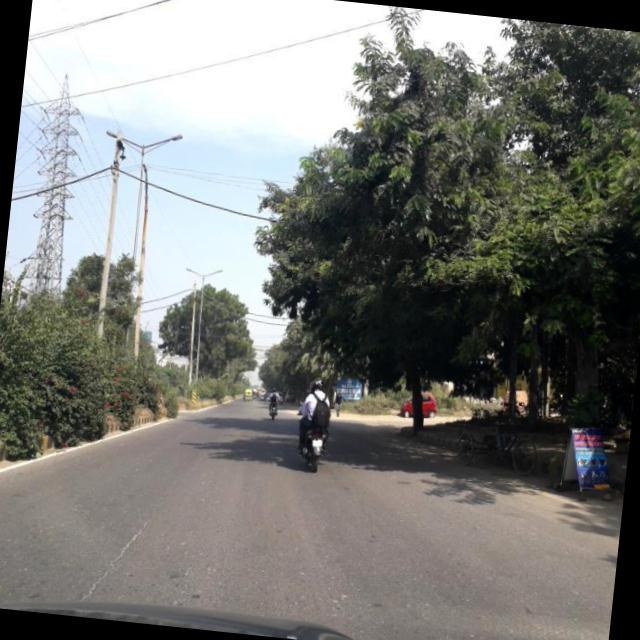pothole: (84, 498, 160, 603)
